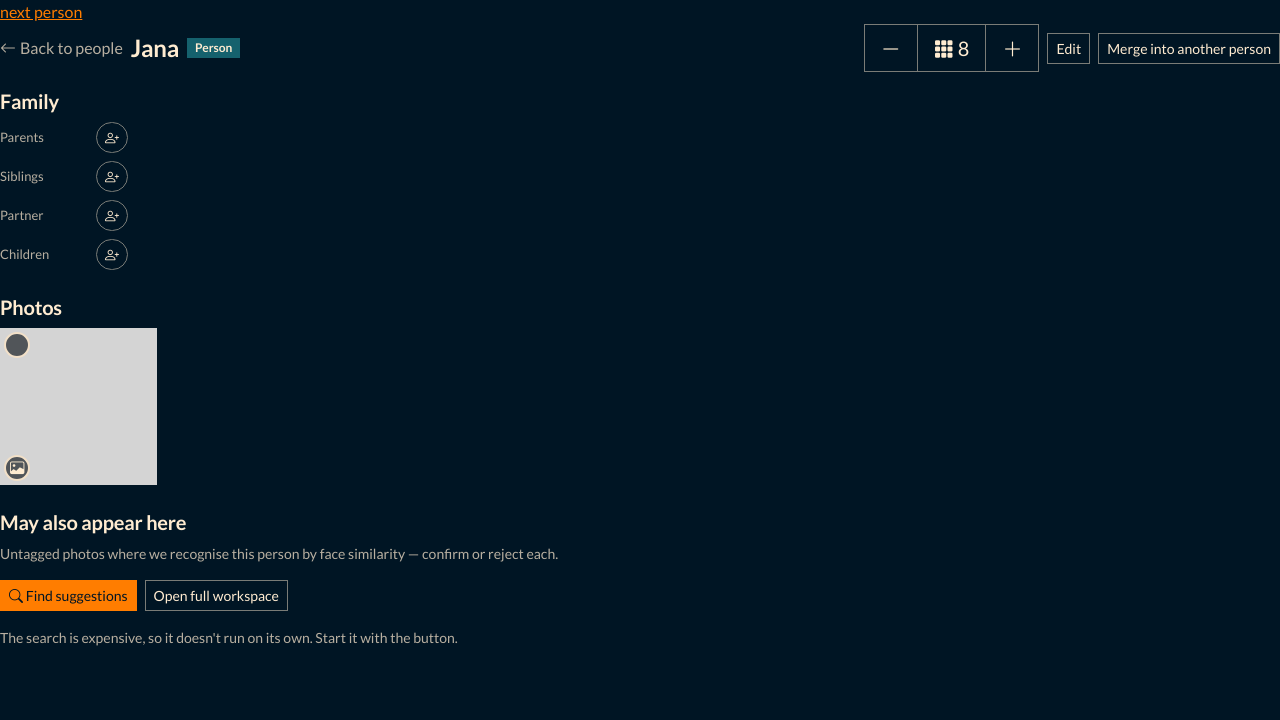
Scenario: SubjectPage › moves the picked photos to another person from the batch bar
Click the button named "Select a.jpg" at (17, 345), box [4,332,30,358]
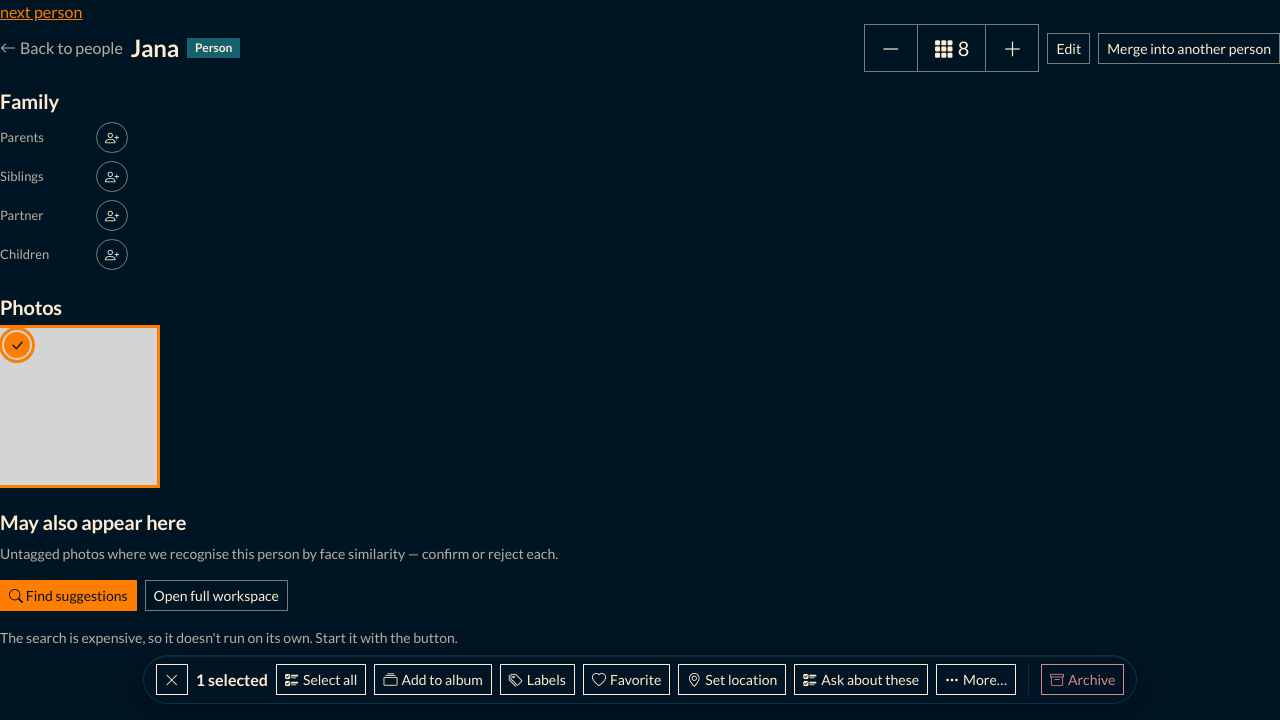
Click the button "More…" at (976, 680), box [936,664,1016,695]
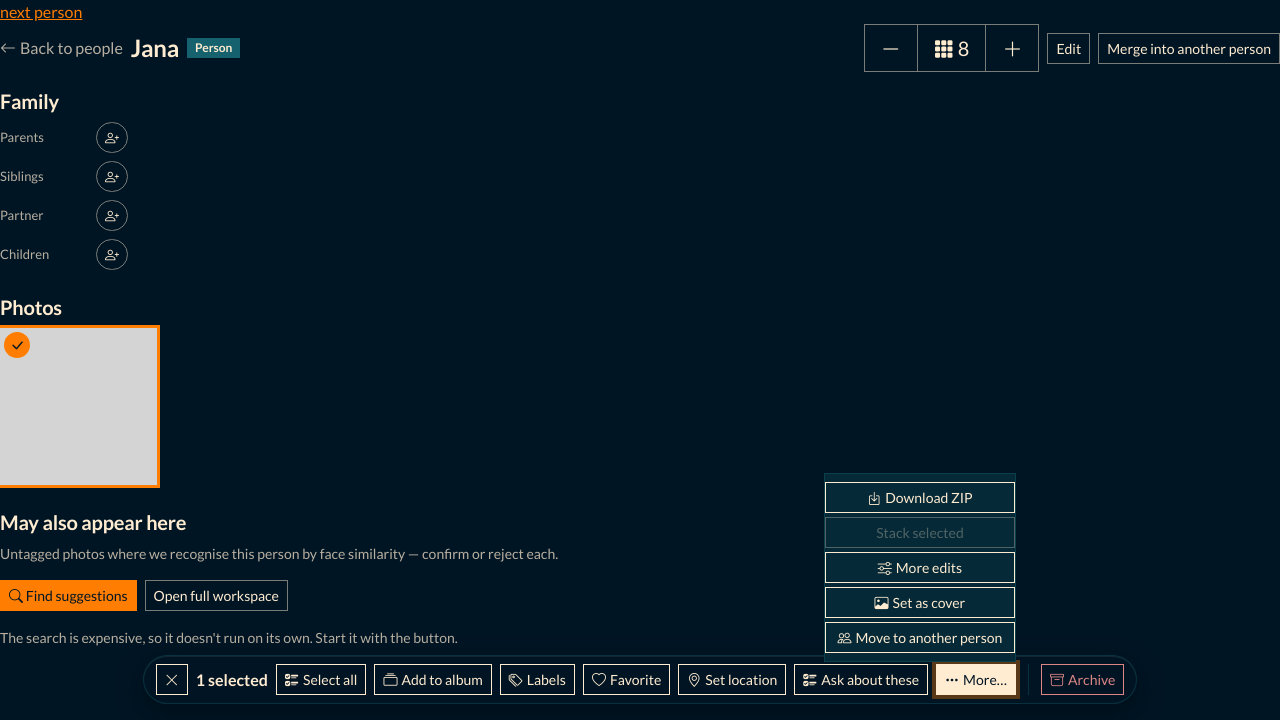
Click the button "Move to another person" at (920, 638), box [825,622,1015,653]
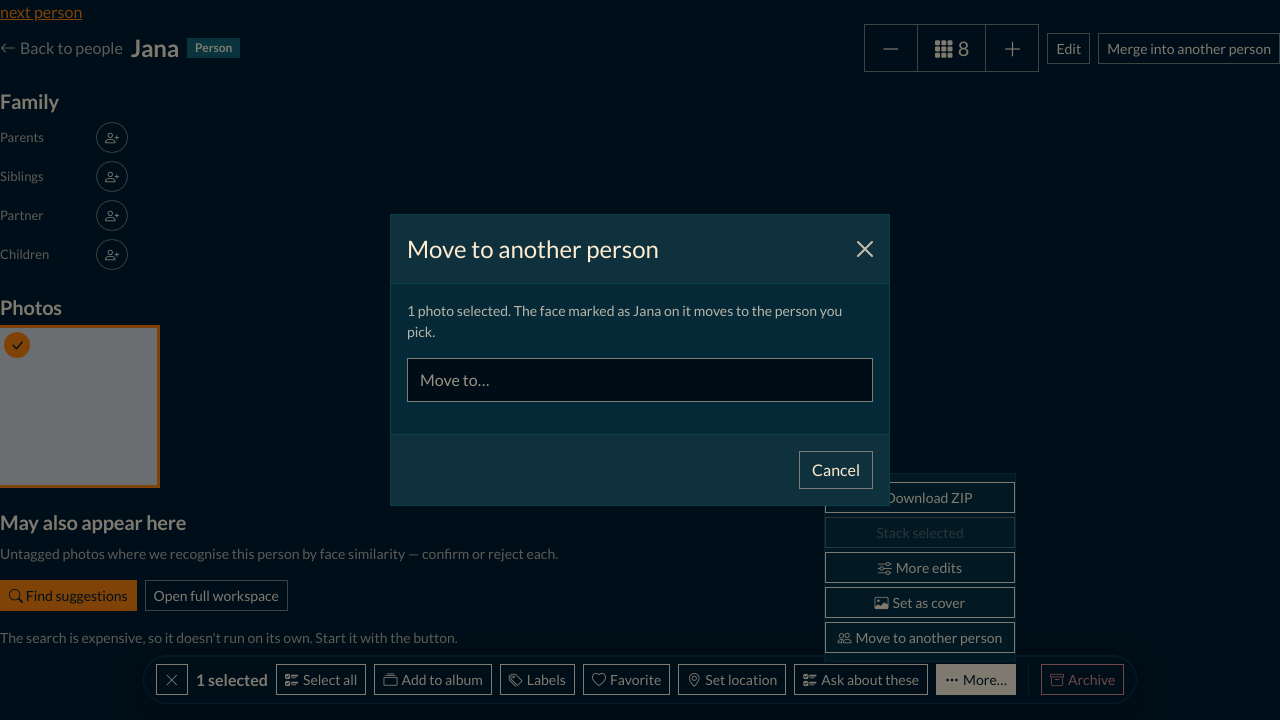
Type "Jana K" into the dropdown labelled "Move to…" at (640, 380), box [407,358,873,402]
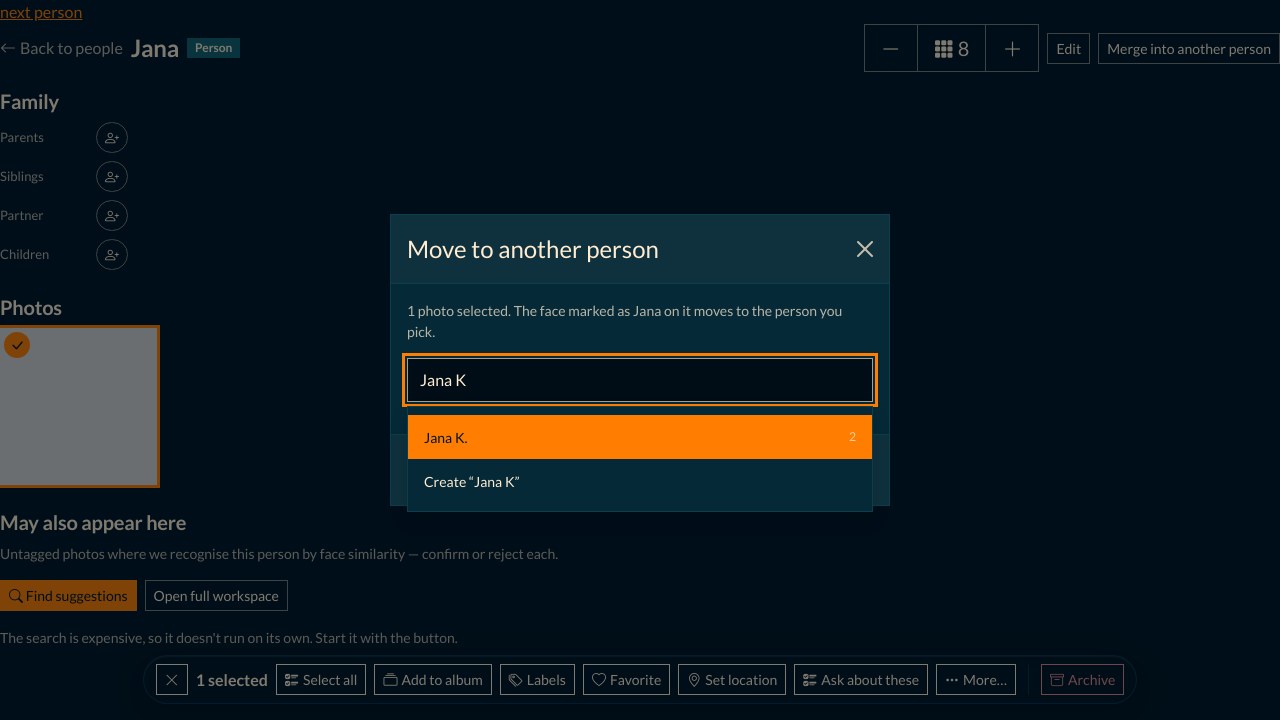
Click the option "Jana K. 2" at (446, 437), box [408,415,872,459]
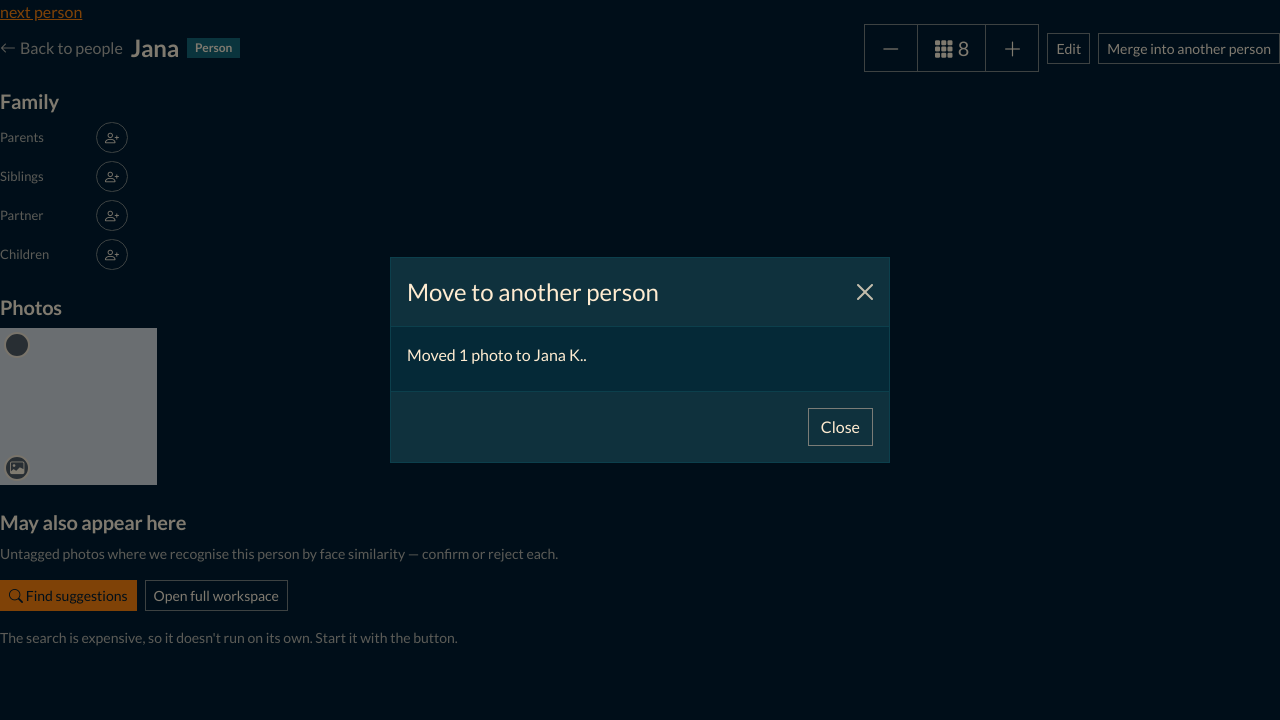
Expected: the text "1 selected" is gone
